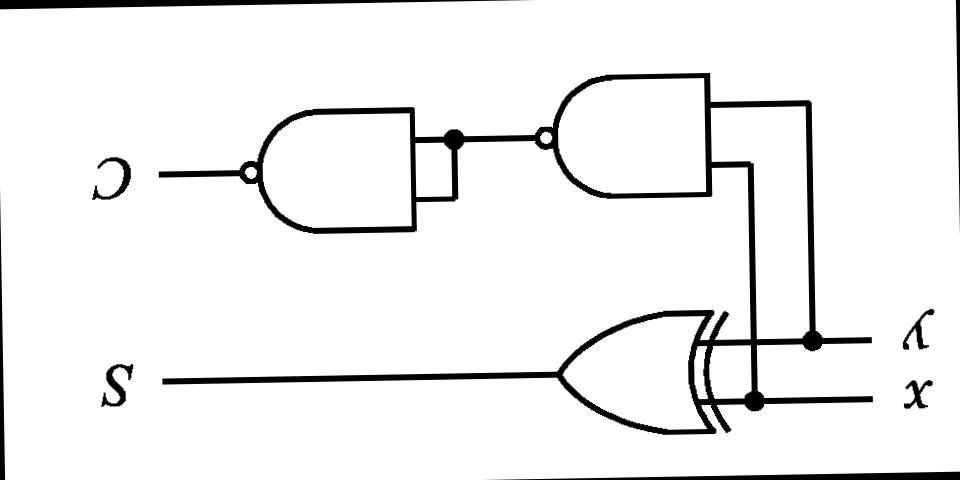nand: (201, 86, 440, 258), (509, 56, 735, 216)
xor: (539, 299, 744, 452)
